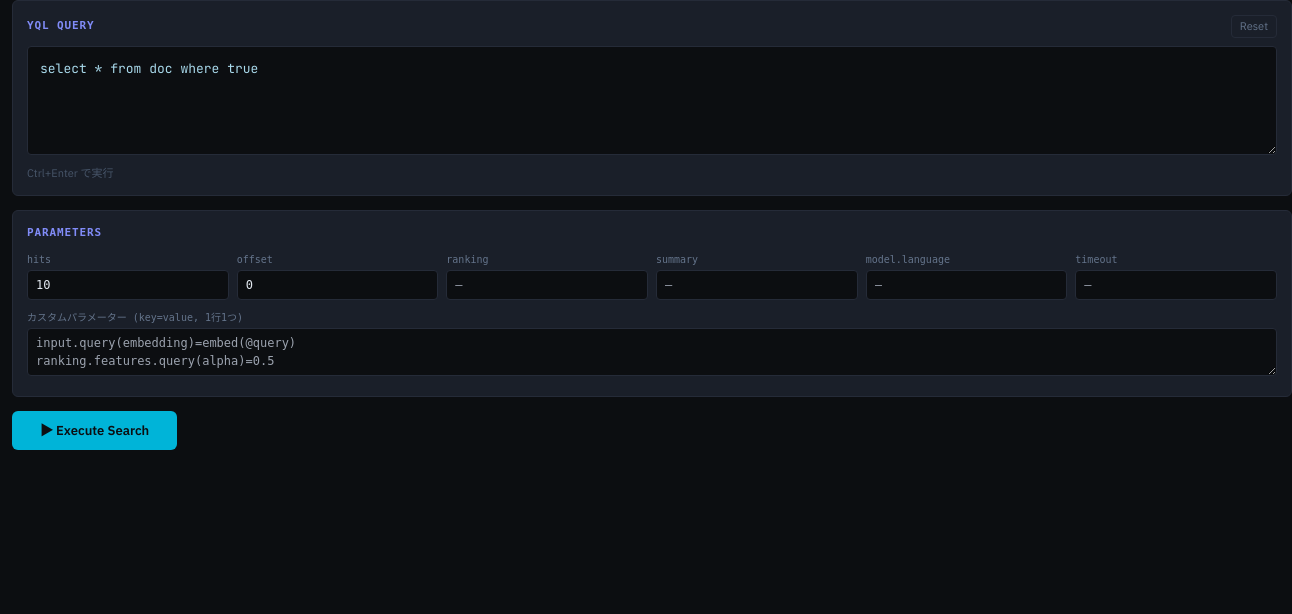
SearchPanel › 成功レスポンス時に RESULTS セクションと totalCount が表示される
This screenshot has width=1292, height=614.
Step 1. Click the button "▶ Execute Search" → x=95, y=430, box top-left (12, 411), bottom-right (177, 450)
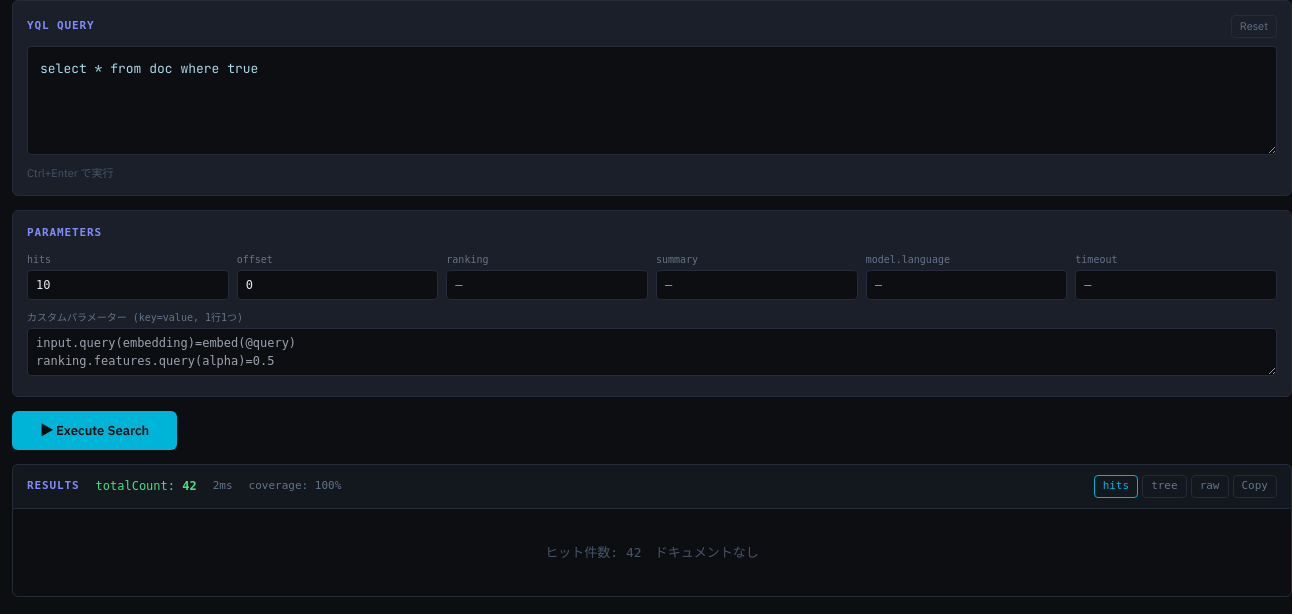
expect the text "RESULTS" is shown: met, box top-left (27, 478), bottom-right (80, 495)
expect the text "42" is shown: met, box top-left (182, 479), bottom-right (197, 493)
